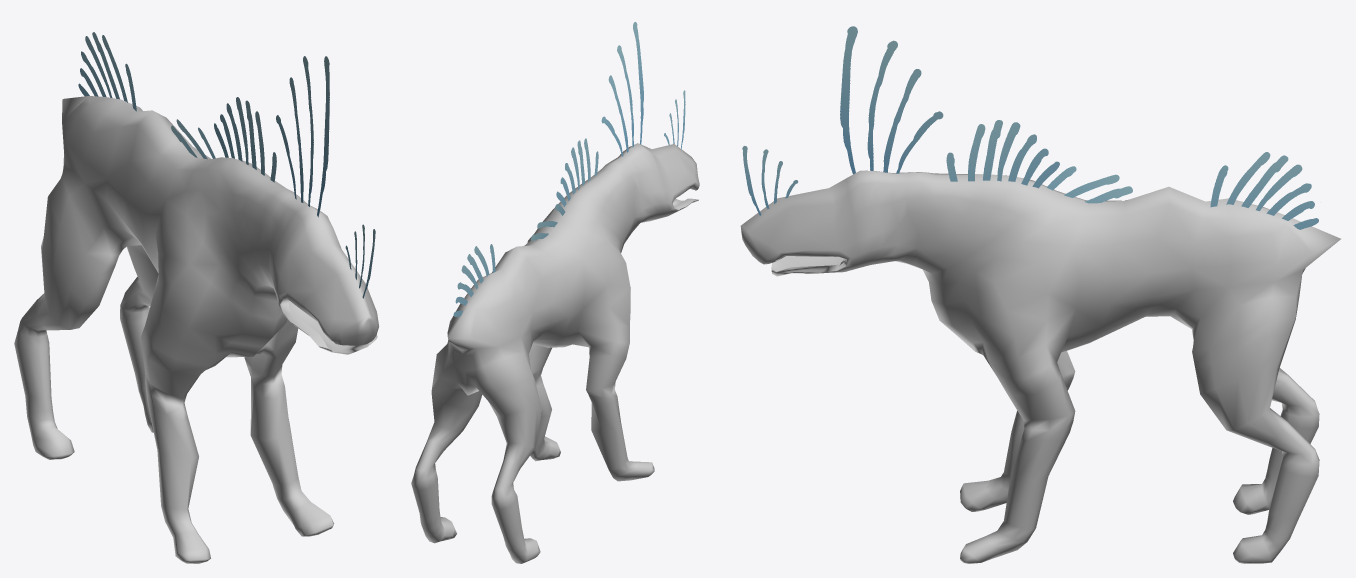
Rendered from hyenadogthing textured.fbx.
3 views of the same model, side by side, from view 1: azimuth 30°, elevation 25°; view 2: azimuth 150°, elevation 25°; view 3: azimuth 270°, elevation 25° (orthographic). The views are drawn at different scales.
Parts seen in each view (by area): view 1: fdskljkjdlskjlfdsShape; view 2: fdskljkjdlskjlfdsShape; view 3: fdskljkjdlskjlfdsShape.
Part boxes in pixels (x1=…): fdskljkjdlskjlfdsShape: x1=14, y1=32, x2=379, y2=563; fdskljkjdlskjlfdsShape: x1=411, y1=22, x2=699, y2=563; fdskljkjdlskjlfdsShape: x1=740, y1=26, x2=1340, y2=563.
Bounding box in the file's own units: 4.68 × 16.2 × 17.06.
